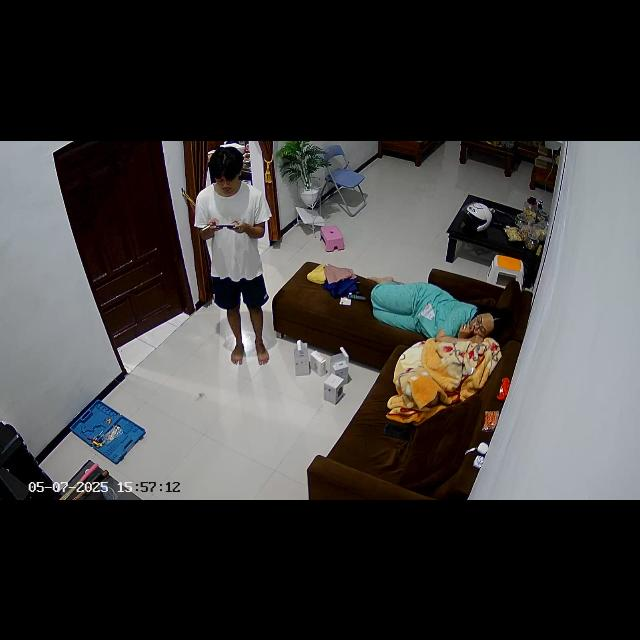rokok: (201, 222, 211, 230)
